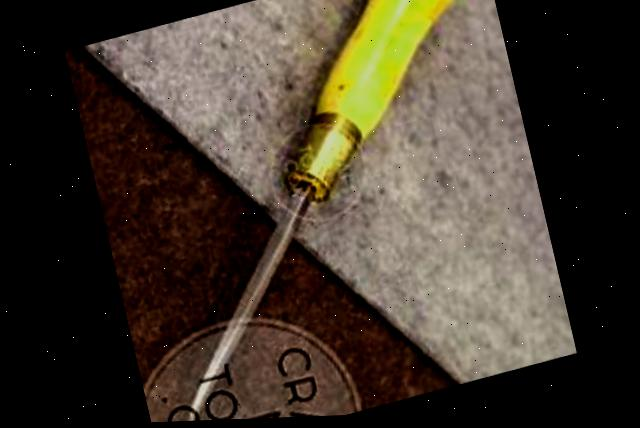ice pick: (83, 0, 559, 426)
